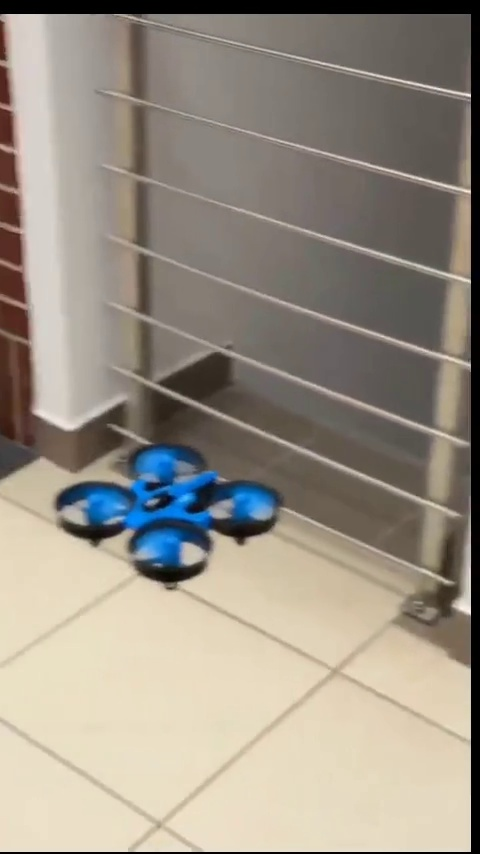drone: (59, 443, 281, 591)
